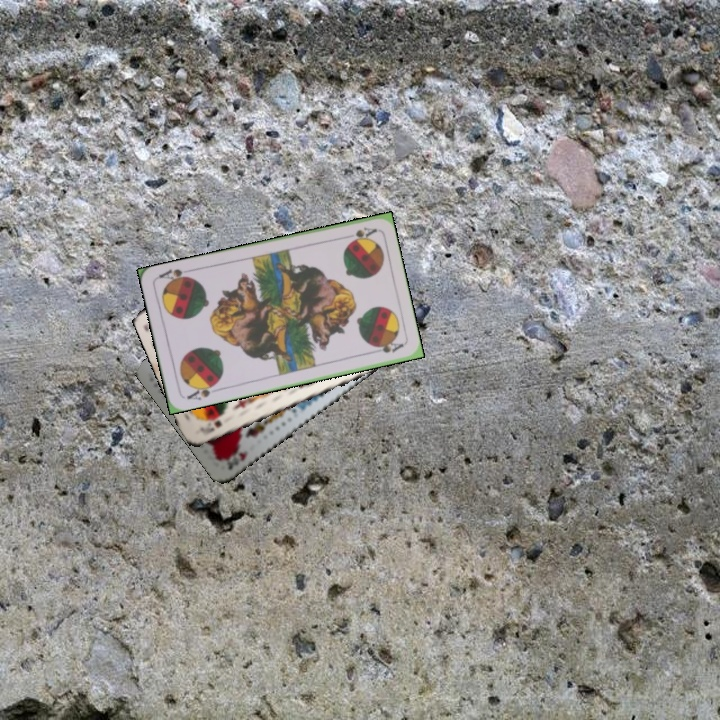HK: (218, 443, 250, 473)
SA: (183, 378, 220, 403), (339, 223, 379, 245)
SK: (199, 410, 229, 437)
